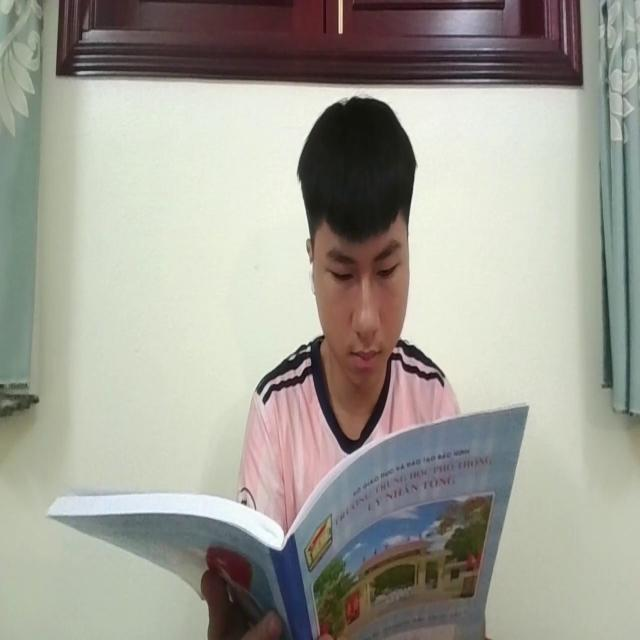book: (44, 397, 522, 640)
student: (228, 100, 464, 467)
